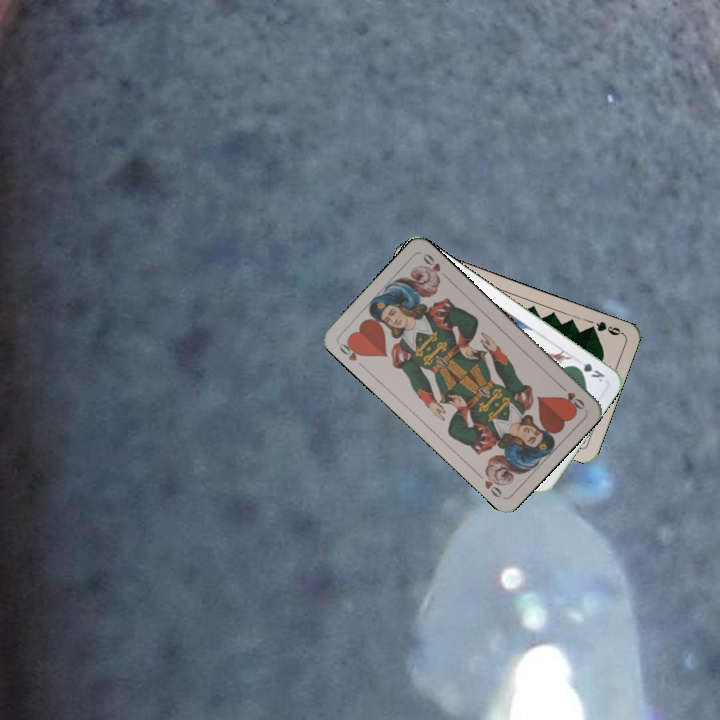G9: (584, 317, 625, 338)
GK: (569, 358, 608, 385)
HO: (555, 380, 587, 412), (335, 336, 367, 364)
